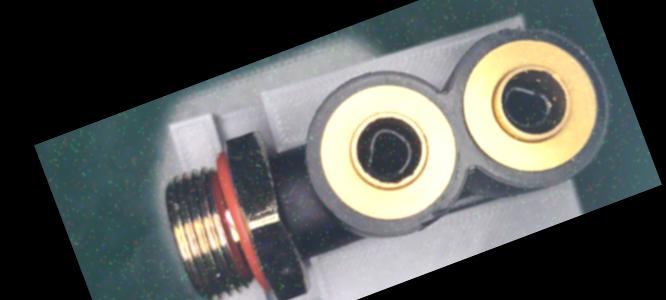bump: (407, 198, 458, 230), (497, 20, 538, 45)
joint line: (278, 190, 314, 209)
off-centered: (352, 118, 423, 188), (495, 74, 563, 139)
white mark: (282, 180, 302, 197)
